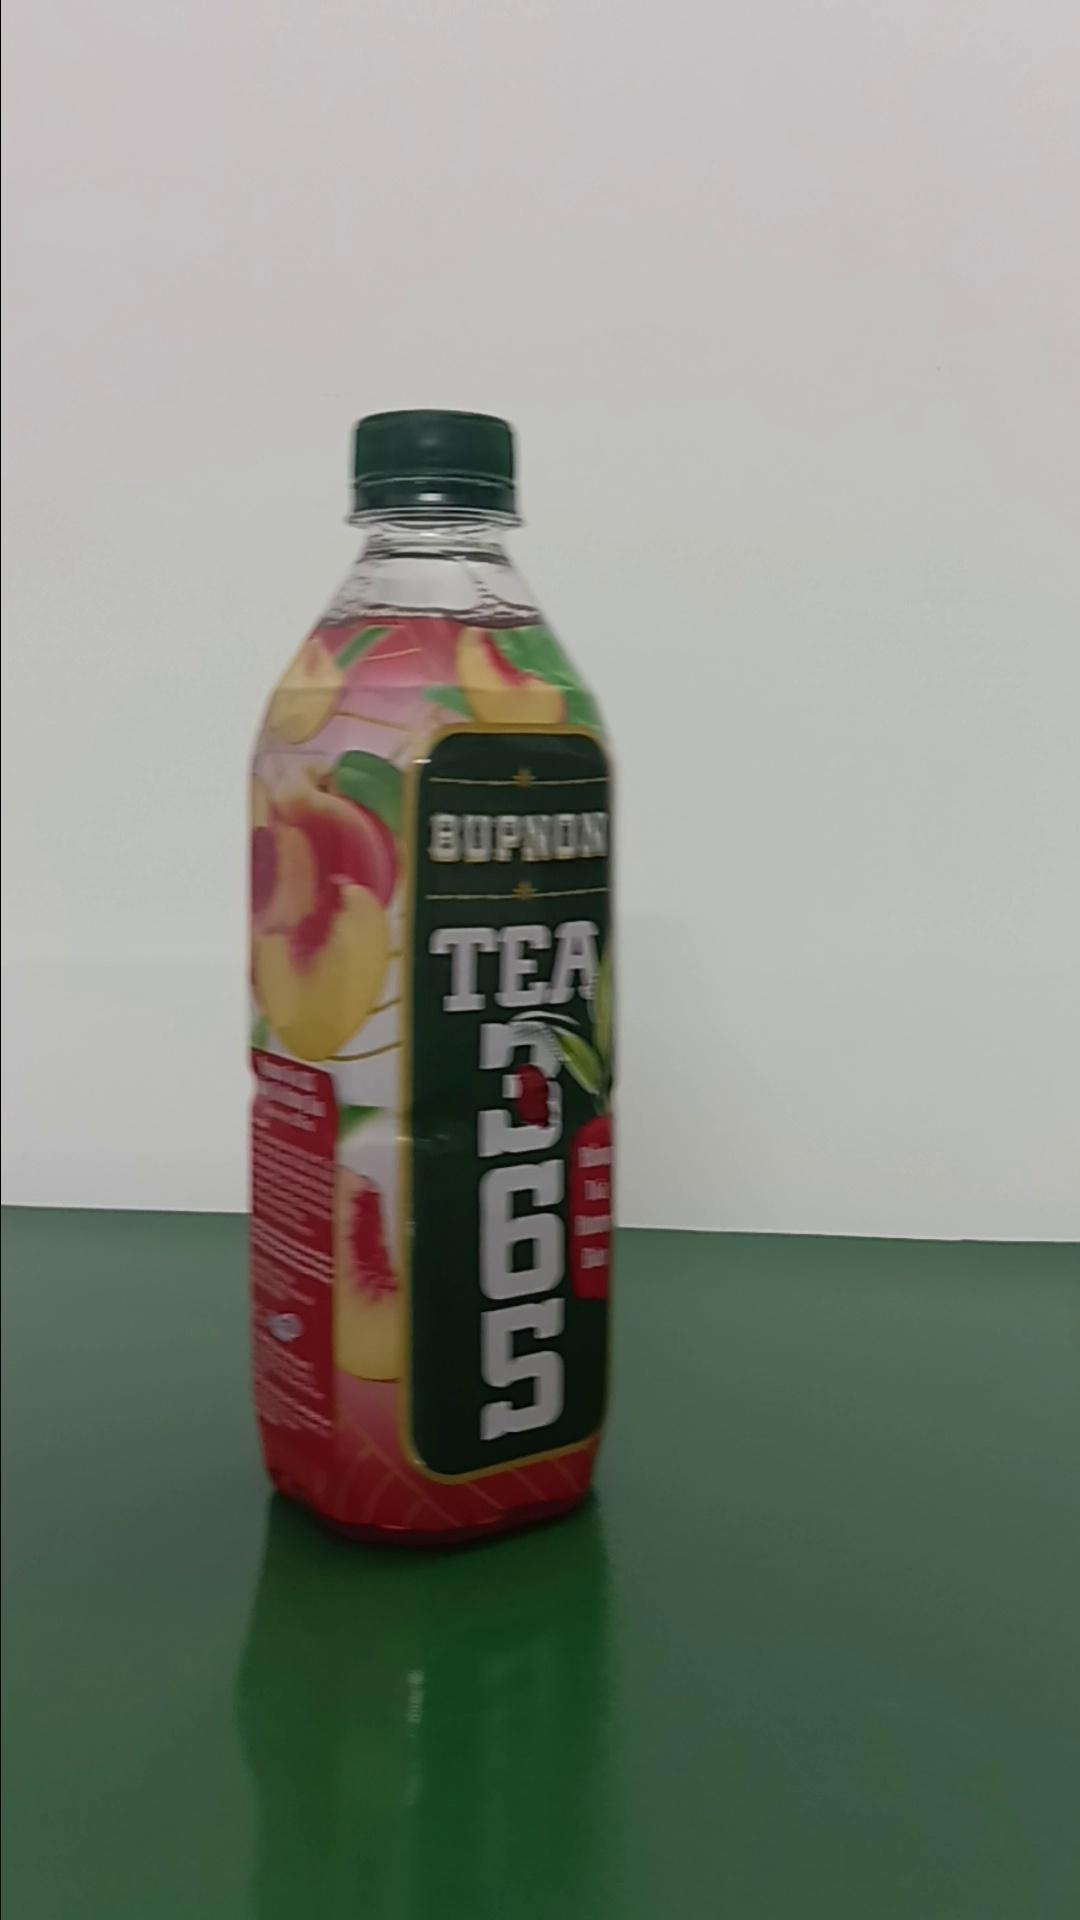loi rach va lap chai: (251, 402, 625, 1557)
